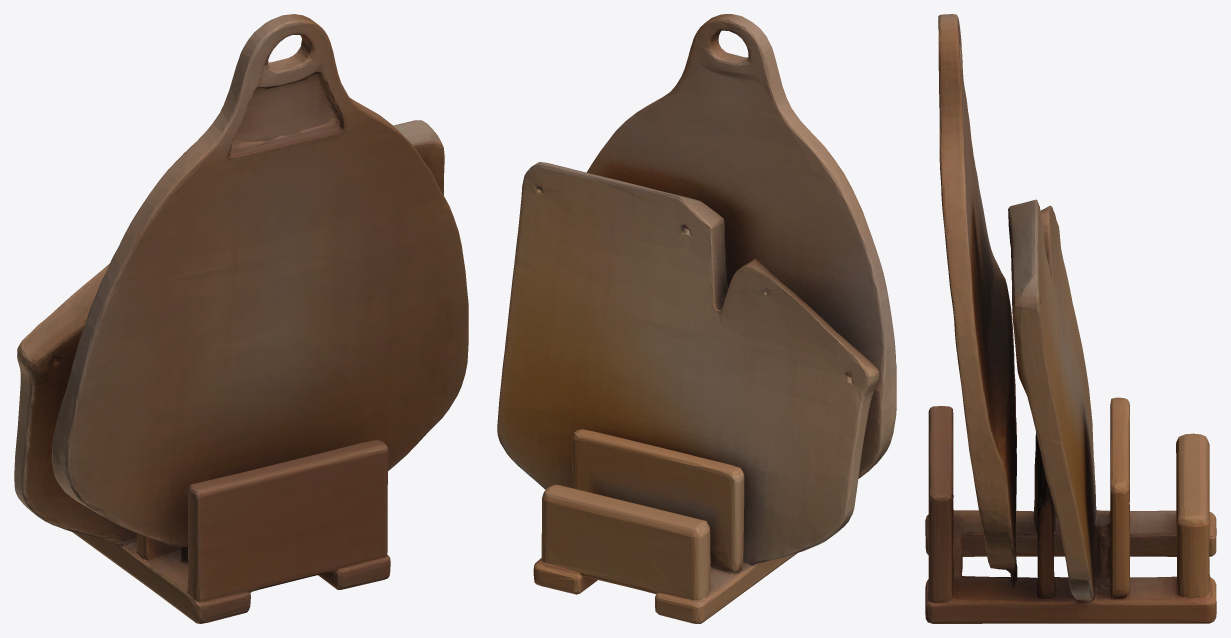
3 renders of one model, left to right at view 1: azimuth 30°, elevation 25°; view 2: azimuth 150°, elevation 25°; view 3: azimuth 270°, elevation 25°, orthographic. The views are drawn at different scales.
Visible parts, largest first — view 1: world; view 2: world; view 3: world.
Boxes of the visible parts, x1,y1,x2,y2 form: world: (14, 14, 468, 623); world: (497, 14, 896, 623); world: (925, 14, 1216, 623).
Size of the model in its own units: 0.5594 by 0.7436 by 0.3495.
Materials: 1 (1 with a texture image).
